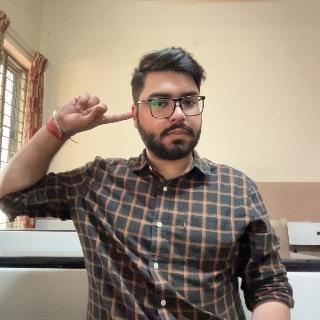Deaf: (55, 92, 133, 131)
Face: (133, 49, 202, 161)
